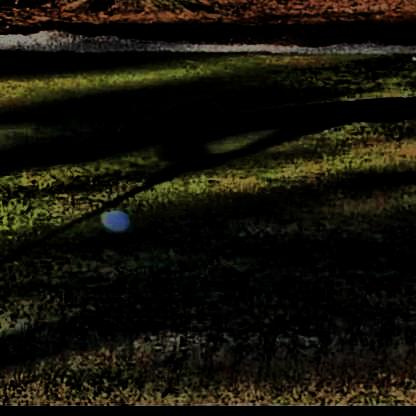golfball: (98, 207, 127, 235)
